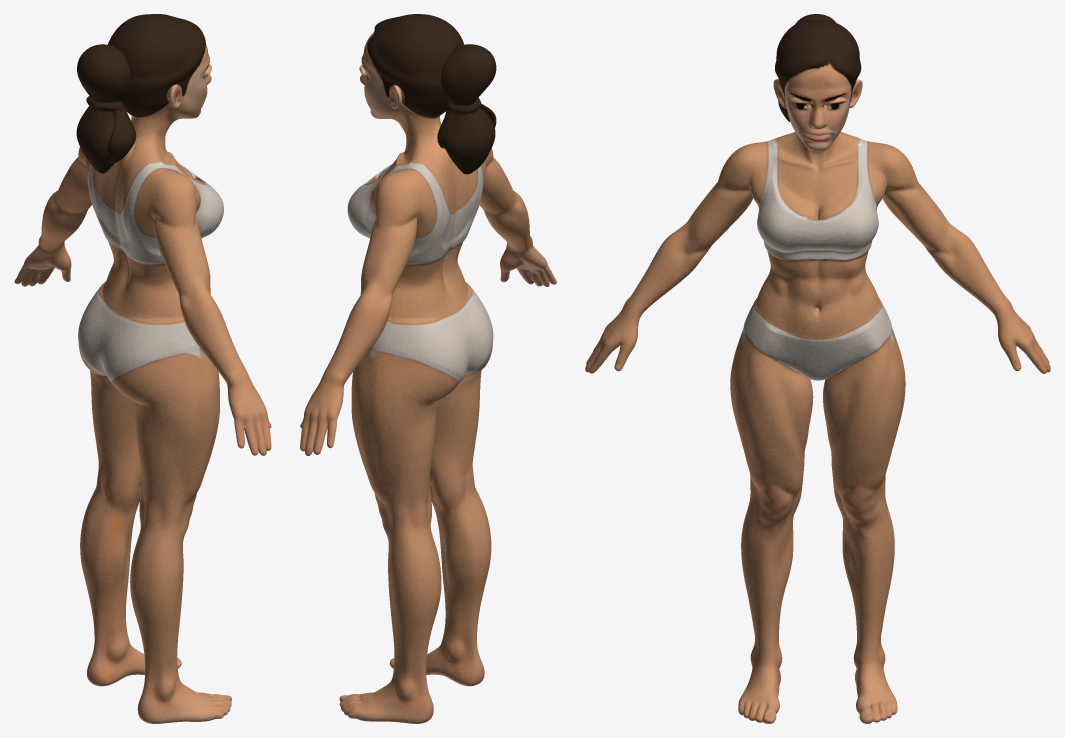
Rendered from Humano_Héroe_SinAtuendo_Mujer.fbx.
3 views of the same model, side by side, from view 1: azimuth 30°, elevation 25°; view 2: azimuth 150°, elevation 25°; view 3: azimuth 270°, elevation 25° (orthographic).
Visible parts, largest first — view 1: tripo_node_d7fcfb1a; view 2: tripo_node_d7fcfb1a; view 3: tripo_node_d7fcfb1a.
Boxes of the visible parts, x1=… form: tripo_node_d7fcfb1a: x1=14, y1=14, x2=271, y2=723; tripo_node_d7fcfb1a: x1=300, y1=14, x2=556, y2=723; tripo_node_d7fcfb1a: x1=585, y1=14, x2=1050, y2=723.
Size of the model in its own units: 20.14 by 100 by 62.43.
1 material, 1 textured.
